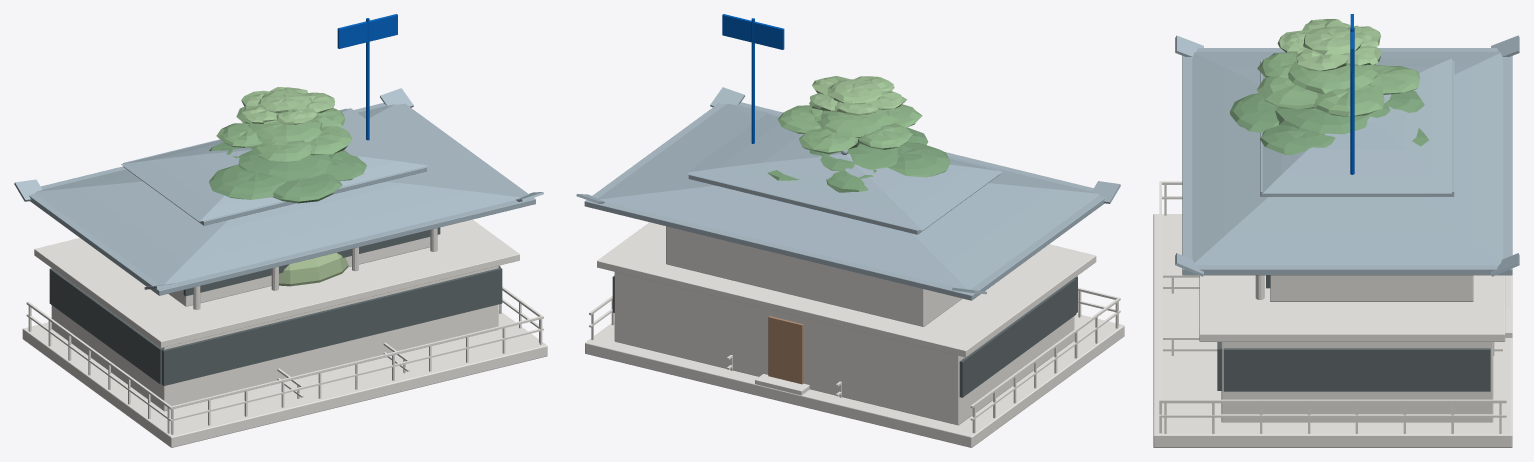
Rendered from lake.glb.
3 views of the same model, side by side, from view 1: azimuth 30°, elevation 25°; view 2: azimuth 150°, elevation 25°; view 3: azimuth 270°, elevation 25° (orthographic). The views are drawn at different scales.
Parts seen in each view (by area): view 1: TTBase, TTRoof, TTGlass, PUCanopy, TTRailing, TTSign, WCanopy, TTCols; view 2: TTBase, TTRoof, PUCanopy, TTGlass, TTDoor, TTRailing, TTSign; view 3: TTRoof, TTBase, PUCanopy, TTGlass, TTRailing, TTSign, BridgeRails.
Boxes of the visible parts, x1,y1,x2,y2 form: TTBase: (22,219,547,447); TTRoof: (14,88,543,295); TTGlass: (49,227,502,385); PUCanopy: (209,87,366,203); TTRailing: (26,286,543,434); TTSign: (337,14,397,140); WCanopy: (279,252,348,286); TTCols: (193,228,437,309); TTBase: (585,222,1124,447); TTRoof: (576,87,1120,300); PUCanopy: (767,76,950,192); TTGlass: (612,275,1077,397); TTDoor: (755,316,809,395); TTRailing: (589,287,1120,433); TTSign: (722,14,784,143); TTRoof: (1175,35,1519,276); TTBase: (1153,214,1512,447); PUCanopy: (1229,19,1428,155); TTGlass: (1217,275,1490,391); TTRailing: (1159,181,1506,433); TTSign: (1350,14,1354,174); BridgeRails: (1163,274,1502,355).
Bounding box in the file's own units: 11.15 × 8.5 × 7.55.
